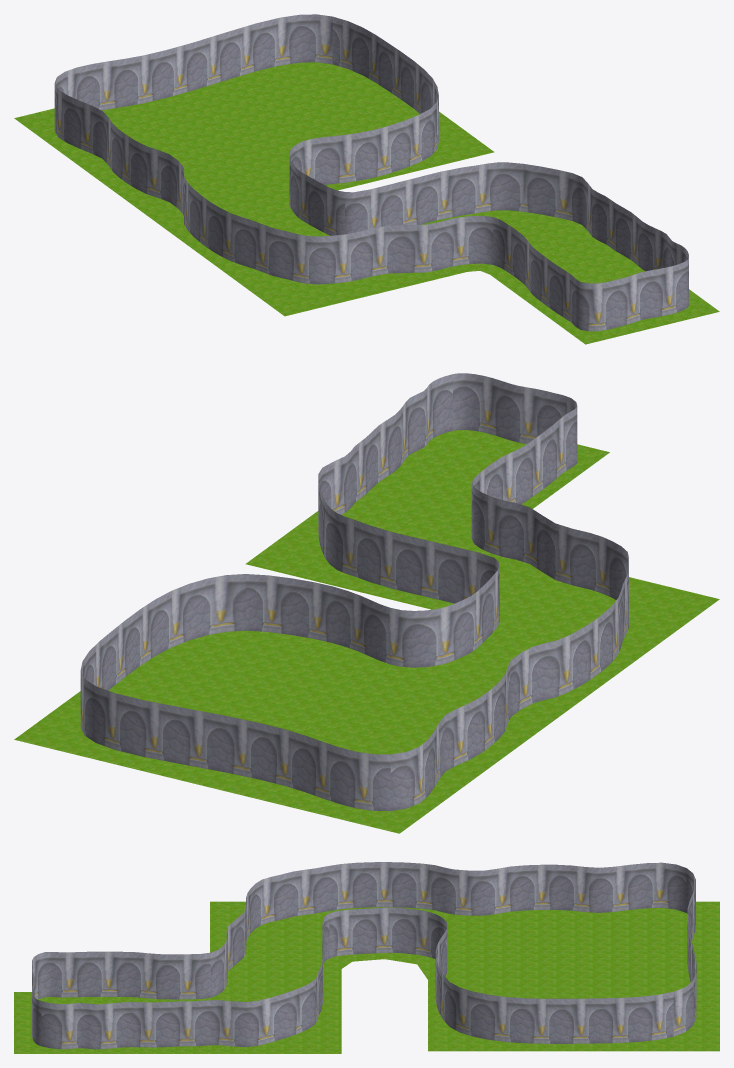
The model's file is Level.FBX.
3 renders of one model, top to bottom at view 1: azimuth 30°, elevation 25°; view 2: azimuth 150°, elevation 25°; view 3: azimuth 270°, elevation 25°, orthographic. The views are drawn at different scales.
Parts seen in each view (by area): view 1: Level; view 2: Level; view 3: Level.
Boxes of the visible parts, box(x1,y1,x2,y2) form: Level: box(14, 14, 719, 344); Level: box(14, 373, 719, 833); Level: box(14, 862, 719, 1053).
Size of the model in its own units: 1211 by 168 by 2374.
